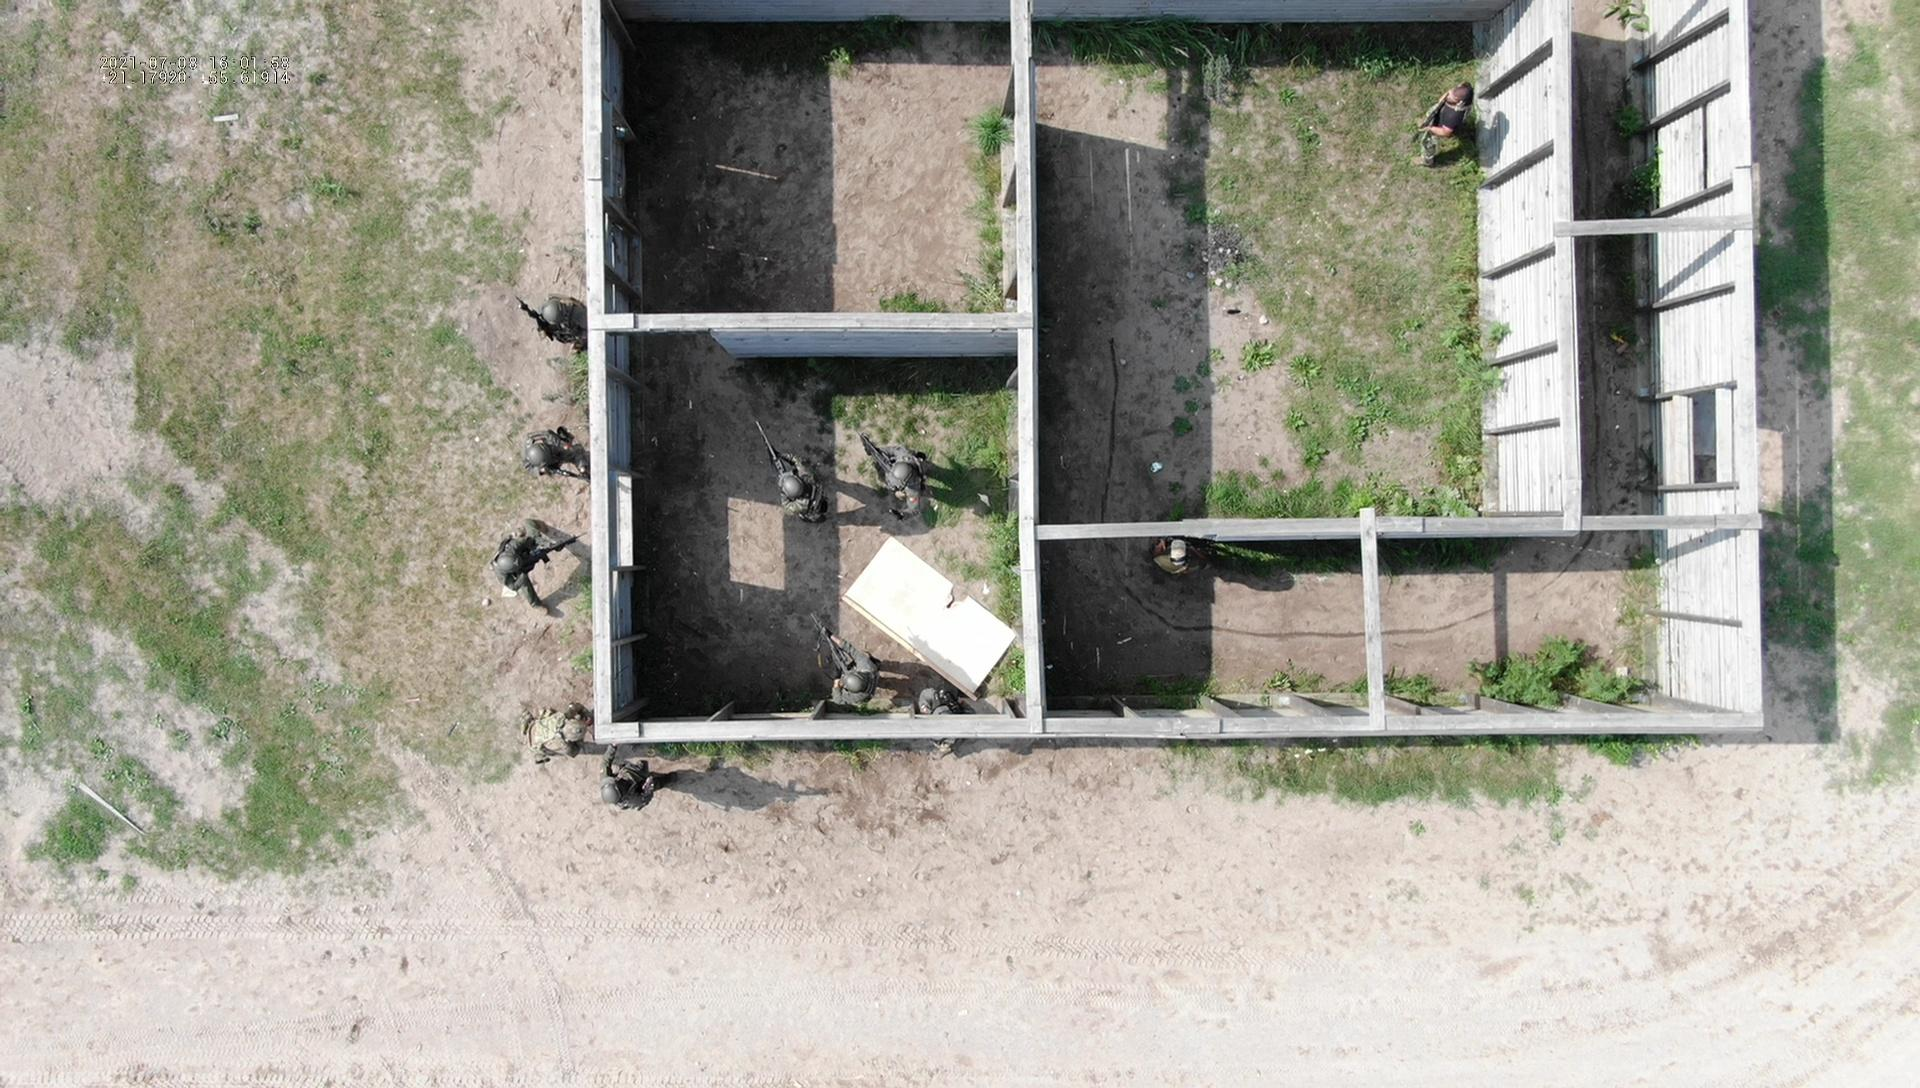Soldier: (724, 408, 851, 521), (1395, 69, 1520, 182), (804, 615, 928, 712), (855, 422, 942, 553), (513, 276, 592, 386), (488, 513, 588, 600), (589, 742, 694, 824), (514, 408, 603, 496), (1139, 526, 1229, 613), (533, 690, 604, 773)
